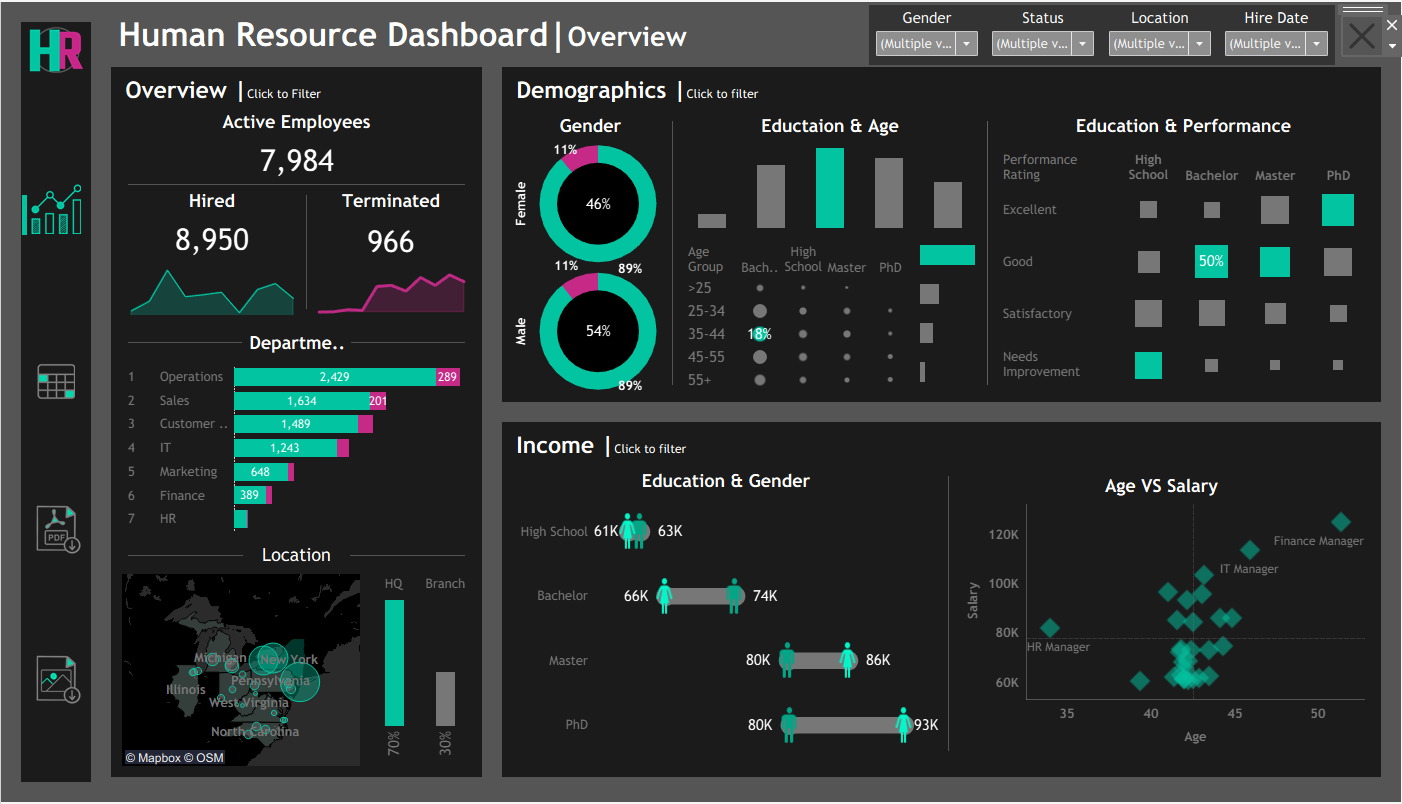

Layout of this report page (visuals, bound fields, positions):
{"tool":"tableau","page":{"name":"HR Summary","canvas":[1400,800],"ordinal":1},"visuals":[{"type":"text","box":[110,0,739,65]},{"type":"blank","box":[849,0,531,65]},{"type":"filter","title":"Gender Vs education Level","param":"[federated.0t0kolw06xhszy0zyx2f31rujlr7].[none:Gender:nk]","box":[868,3,116.5,60]},{"type":"filter","title":"Gender Vs education Level","param":"[federated.0t0kolw06xhszy0zyx2f31rujlr7].[none:Calculation_1028325780664320:nk]","box":[984.5,3,116.5,60]},{"type":"filter","title":"Gender Vs education Level","param":"[federated.0t0kolw06xhszy0zyx2f31rujlr7].[none:Calculation_2248508115984388:nk]","box":[1101,3,116.5,60]},{"type":"filter","title":"Gender Vs education Level","param":"[federated.0t0kolw06xhszy0zyx2f31rujlr7].[yr:Hiredate:ok]","box":[1217.5,3,116.5,60]},{"type":"dashboard-object","box":[1342,15,39,38]},{"type":"image","param":"Image/Logo.png","box":[20,20,70,55]},{"type":"text","box":[117,72,357,32]},{"type":"text","box":[508,72,865,32]},{"type":"blank","box":[20,75,70,75]},{"type":"text","box":[117,104,357,32]},{"type":"text","box":[508,109,163,29]},{"type":"blank","box":[671,109,1,284]},{"type":"text","box":[677,109,304,29]},{"type":"blank","box":[986,109,1,284]},{"type":"text","box":[992,109,381,29]},{"type":"worksheet","title":"Active","mark":"Automatic","box":[117,136,357,46]},{"type":"worksheet","title":"Gender","mark":"Pie","rows":["Gender"],"cols":["Calculation_2248508122099719","Calculation_2248508122099719"],"box":[508,138,163,255]},{"type":"worksheet","title":"Age wise Hiring","mark":"Bar","rows":["Calculation_2184736212230144"],"cols":["Calculation_2248508125581322"],"box":[677,138,304,92]},{"type":"worksheet","title":"Education vs Performation","mark":"Square","rows":["Performance Rating"],"cols":["Education Level"],"box":[992,138,381,255]},{"type":"dashboard-object","box":[30,160,50,96]},{"type":"blank","box":[117,182,357,1]},{"type":"text","box":[117,183,188,32]},{"type":"blank","box":[305,183,1,134]},{"type":"text","box":[306,183,167.9,32]},{"type":"blank","box":[21,193,5,40]},{"type":"worksheet","title":"Hired","mark":"Automatic","box":[117,215,188,46]},{"type":"worksheet","title":"Terminated","mark":"Automatic","box":[306,215,167.9,50]},{"type":"worksheet","title":"Age and Education","mark":"Circle","rows":["Calculation_2248508125581322"],"cols":["Education Level"],"box":[677,230,238,163]},{"type":"worksheet","title":"Education Levels","mark":"Bar","rows":["Education Level"],"cols":["Calculation_2184736212230144"],"box":[915,230,66,163]},{"type":"blank","box":[30,256,50,100]},{"type":"worksheet","title":"Hired Over Year","mark":"Line","rows":["Calculation_2184736212230144","Calculation_2184736212230144"],"cols":["Hiredate"],"box":[117,261,188,56]},{"type":"worksheet","title":"Terminated Over Year","mark":"Area","rows":["Calculation_2184736212434945","Calculation_2184736212434945"],"cols":["Termdate"],"box":[306,265,167.9,52]},{"type":"blank","box":[127,322,113.7,37]},{"type":"text","box":[240.7,322,109.7,37]},{"type":"blank","box":[350.3,322,113.7,37]},{"type":"text","box":[616,348,100,30]},{"type":"dashboard-object","box":[30,356,50,46]},{"type":"worksheet","title":"Departments","mark":"Bar","rows":["Calculation_2248508115386371","Department"],"cols":["Calculation_2184736212230144"],"box":[117,359,357,174]},{"type":"blank","box":[30,402,50,100]},{"type":"text","box":[508,427,865,32]},{"type":"text","box":[508,464,434,29]},{"type":"blank","box":[947,464,1,295]},{"type":"text","box":[953,469,415,29]},{"type":"worksheet","title":"Gender Vs education Level","mark":"Square","rows":["Education Level"],"cols":["Salary","Salary"],"box":[508,493,434,266]},{"type":"worksheet","title":"Age vs Salary","mark":"Shape","rows":["Salary"],"cols":["Calculation_2248508124262408"],"box":[953,498,415,256]},{"type":"dashboard-object","box":[30,502,50,50]},{"type":"blank","box":[127,538,115,30]},{"type":"text","box":[242,538,107,30]},{"type":"blank","box":[349,538,115,30]},{"type":"blank","box":[30,552,50,61]},{"type":"worksheet","title":"Stated","mark":"Automatic","box":[117,568,246,200]},{"type":"worksheet","title":"Location","mark":"Bar","rows":["Calculation_2184736212230144"],"cols":["Calculation_2248508115984388","Calculation1"],"box":[363,568,111,200]},{"type":"dashboard-object","box":[30,613,50,130]}]}

Visuals, with their boxes in screenshot pixels (x1, y1, x2, y2), scaled from the page's 1400x800 canvas onto the 1402x804 screenshot:
text: locate(110, 0, 850, 65)
blank: locate(850, 0, 1382, 65)
"Gender Vs education Level" filter: locate(869, 3, 986, 63)
"Gender Vs education Level" filter: locate(986, 3, 1103, 63)
"Gender Vs education Level" filter: locate(1103, 3, 1219, 63)
"Gender Vs education Level" filter: locate(1219, 3, 1336, 63)
dashboard-object: locate(1344, 15, 1383, 53)
image: locate(20, 20, 90, 75)
text: locate(117, 72, 475, 105)
text: locate(509, 72, 1375, 105)
blank: locate(20, 75, 90, 151)
text: locate(117, 105, 475, 137)
text: locate(509, 110, 672, 139)
blank: locate(672, 110, 673, 395)
text: locate(678, 110, 982, 139)
blank: locate(987, 110, 988, 395)
text: locate(993, 110, 1375, 139)
"Active" worksheet: locate(117, 137, 475, 183)
"Gender" worksheet (Pie marks): locate(509, 139, 672, 395)
"Age wise Hiring" worksheet (Bar marks): locate(678, 139, 982, 231)
"Education vs Performation" worksheet (Square marks): locate(993, 139, 1375, 395)
dashboard-object: locate(30, 161, 80, 257)
blank: locate(117, 183, 475, 184)
text: locate(117, 184, 305, 216)
blank: locate(305, 184, 306, 319)
text: locate(306, 184, 475, 216)
blank: locate(21, 194, 26, 234)
"Hired" worksheet: locate(117, 216, 305, 262)
"Terminated" worksheet: locate(306, 216, 475, 266)
"Age and Education" worksheet (Circle marks): locate(678, 231, 916, 395)
"Education Levels" worksheet (Bar marks): locate(916, 231, 982, 395)
blank: locate(30, 257, 80, 358)
"Hired Over Year" worksheet (Line marks): locate(117, 262, 305, 319)
"Terminated Over Year" worksheet (Area marks): locate(306, 266, 475, 319)
blank: locate(127, 324, 241, 361)
text: locate(241, 324, 351, 361)
blank: locate(351, 324, 465, 361)
text: locate(617, 350, 717, 380)
dashboard-object: locate(30, 358, 80, 404)
"Departments" worksheet (Bar marks): locate(117, 361, 475, 536)
blank: locate(30, 404, 80, 505)
text: locate(509, 429, 1375, 461)
text: locate(509, 466, 943, 495)
blank: locate(948, 466, 949, 763)
text: locate(954, 471, 1370, 500)
"Gender Vs education Level" worksheet (Square marks): locate(509, 495, 943, 763)
"Age vs Salary" worksheet (Shape marks): locate(954, 500, 1370, 758)
dashboard-object: locate(30, 505, 80, 555)
blank: locate(127, 541, 242, 571)
text: locate(242, 541, 349, 571)
blank: locate(349, 541, 465, 571)
blank: locate(30, 555, 80, 616)
"Stated" worksheet: locate(117, 571, 364, 772)
"Location" worksheet (Bar marks): locate(364, 571, 475, 772)
dashboard-object: locate(30, 616, 80, 747)
